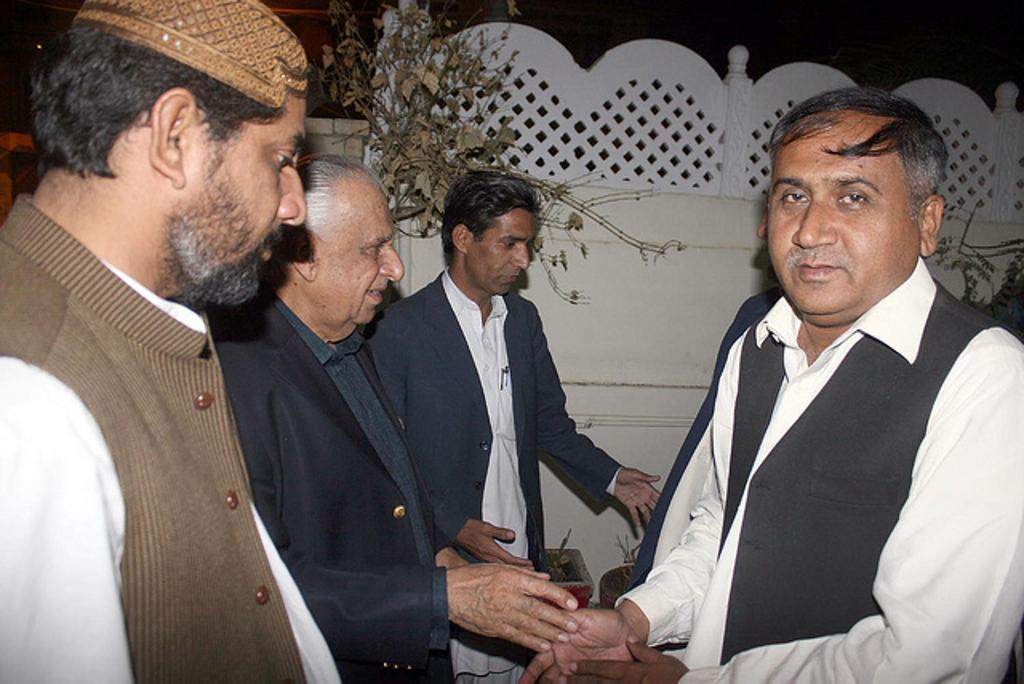face: (192, 12, 306, 294), (770, 120, 908, 316), (324, 174, 402, 320), (482, 192, 536, 296)
